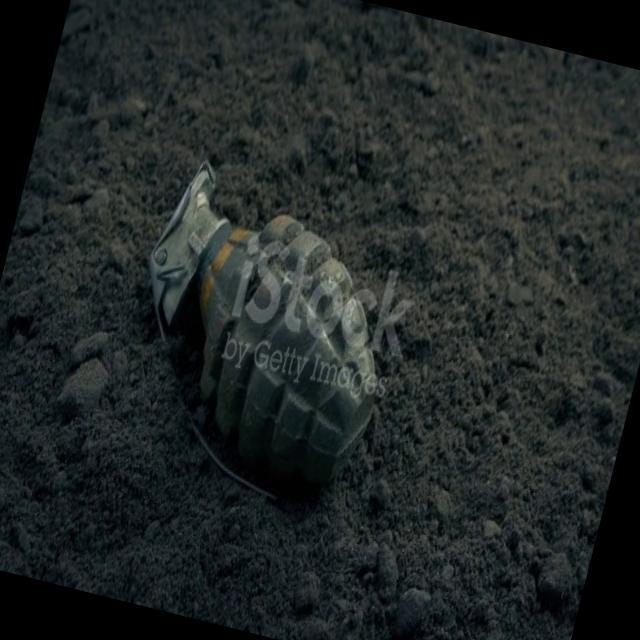grenade: (96, 144, 428, 524)
